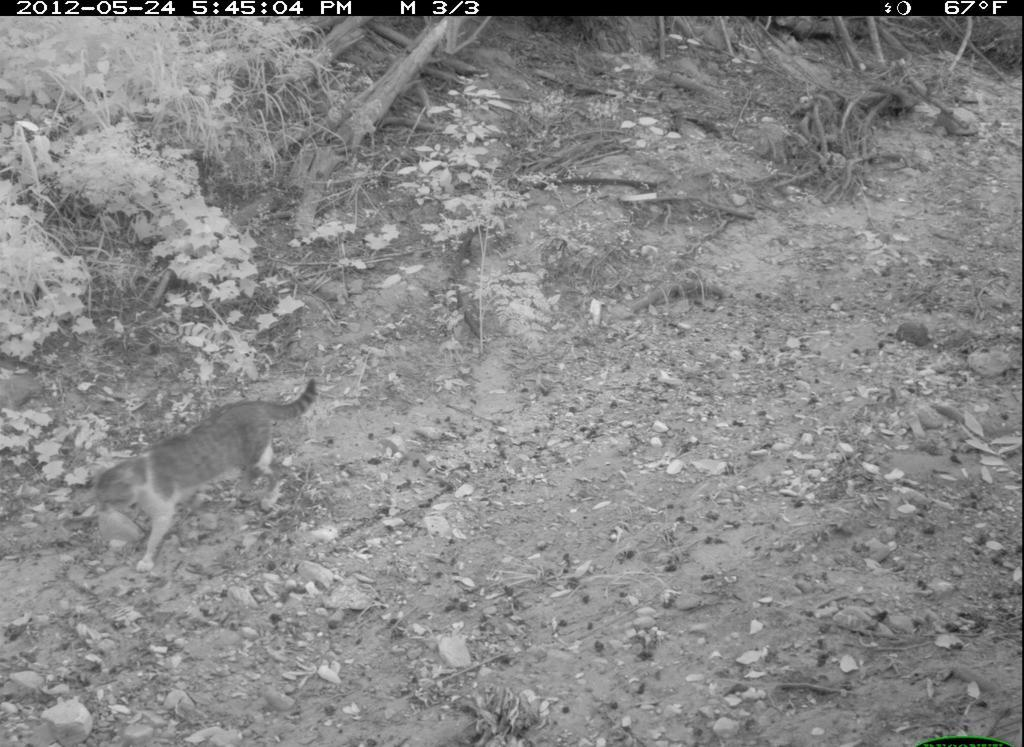cat: (65, 383, 329, 582)
